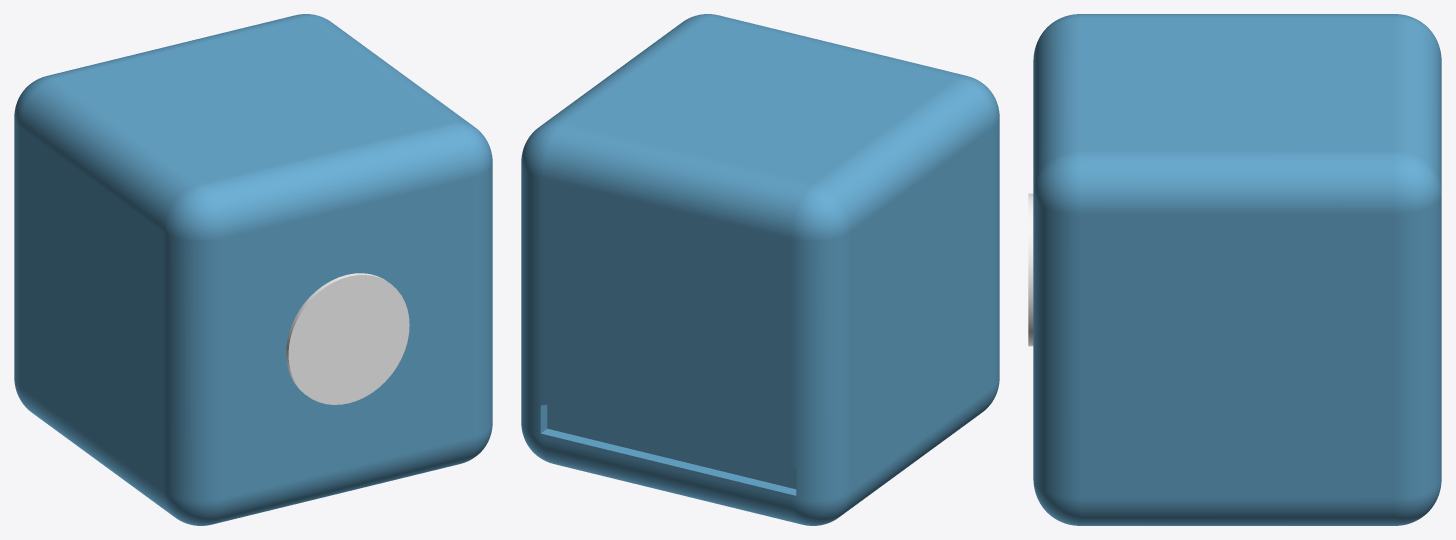
3 views of the same model, side by side, from view 1: azimuth 30°, elevation 25°; view 2: azimuth 150°, elevation 25°; view 3: azimuth 270°, elevation 25° (orthographic). The views are drawn at different scales.
Visible parts, largest first — view 1: Box, cylinder; view 2: Box; view 3: Box, cylinder.
Part boxes in pixels (x1,y1,x2,y2): Box: [14, 14, 492, 525]; cylinder: [286, 273, 409, 404]; Box: [521, 14, 999, 525]; Box: [1033, 14, 1441, 525]; cylinder: [1028, 193, 1033, 346].
Bounding box in the file's own units: 20 × 20 × 20.25.
